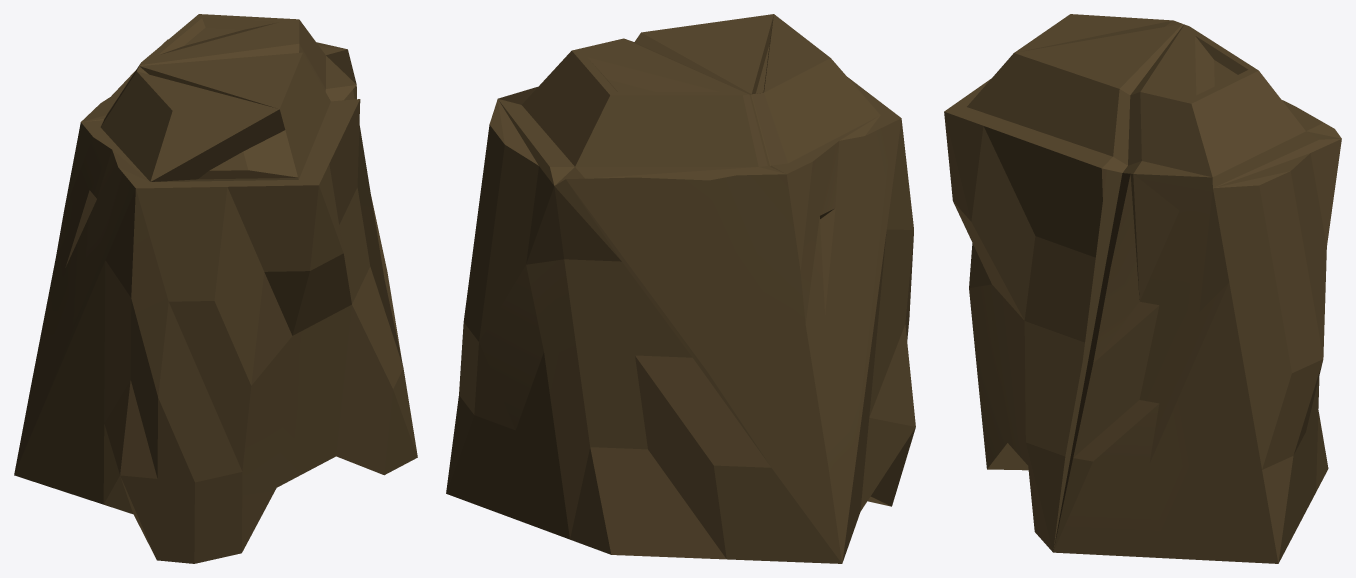
Rendered from cliff.fbx.
3 views of the same model, side by side, from view 1: azimuth 30°, elevation 25°; view 2: azimuth 150°, elevation 25°; view 3: azimuth 270°, elevation 25° (orthographic). The views are drawn at different scales.
Visible parts, largest first — view 1: cliff_2; view 2: cliff_2; view 3: cliff_2.
Boxes of the visible parts, box(x1,y1,x2,y2) form: cliff_2: box(14, 14, 417, 563); cliff_2: box(446, 14, 915, 563); cliff_2: box(944, 14, 1341, 563).
Size of the model in its own units: 1365 by 1630 by 1301.
